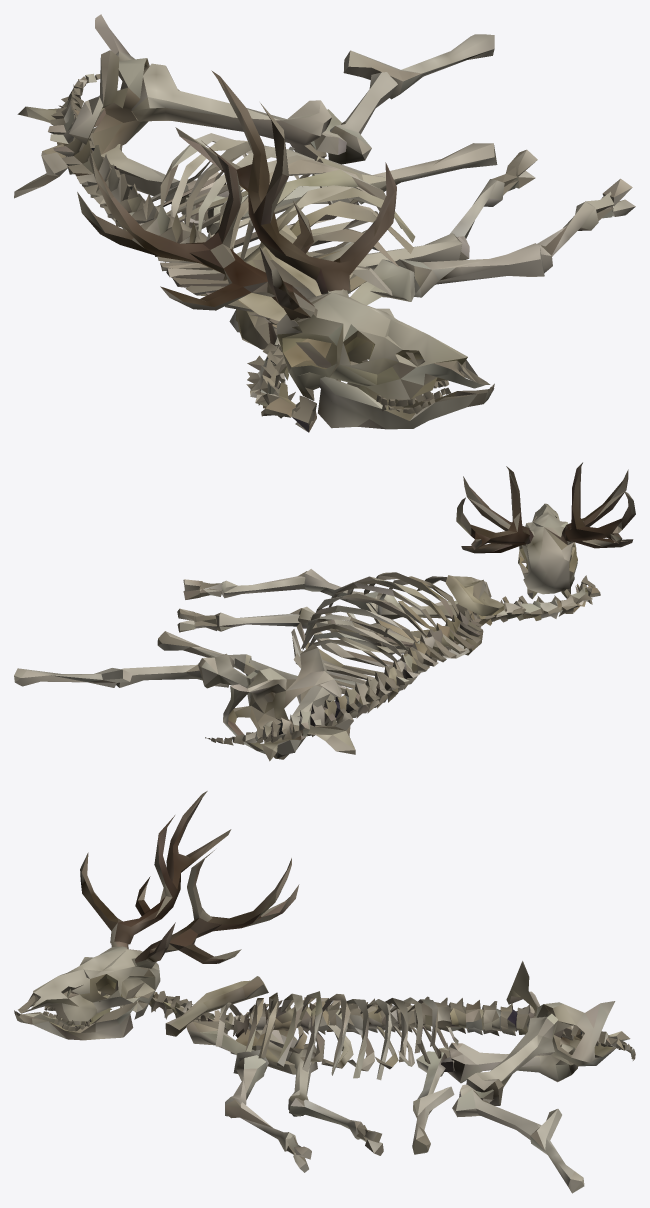
File: deer.glb
3 renders of one model, top to bottom at view 1: azimuth 30°, elevation 25°; view 2: azimuth 150°, elevation 25°; view 3: azimuth 270°, elevation 25°, orthographic. The views are drawn at different scales.
Visible parts, largest first — view 1: deer; view 2: deer; view 3: deer.
Boxes of the visible parts, bbox=[...] form: deer: bbox=[14, 14, 635, 432]; deer: bbox=[14, 462, 635, 761]; deer: bbox=[14, 791, 635, 1193].
Size of the model in its own units: 0.8544 by 0.3596 by 0.9996.
Materials: 1 (1 with a texture image).
